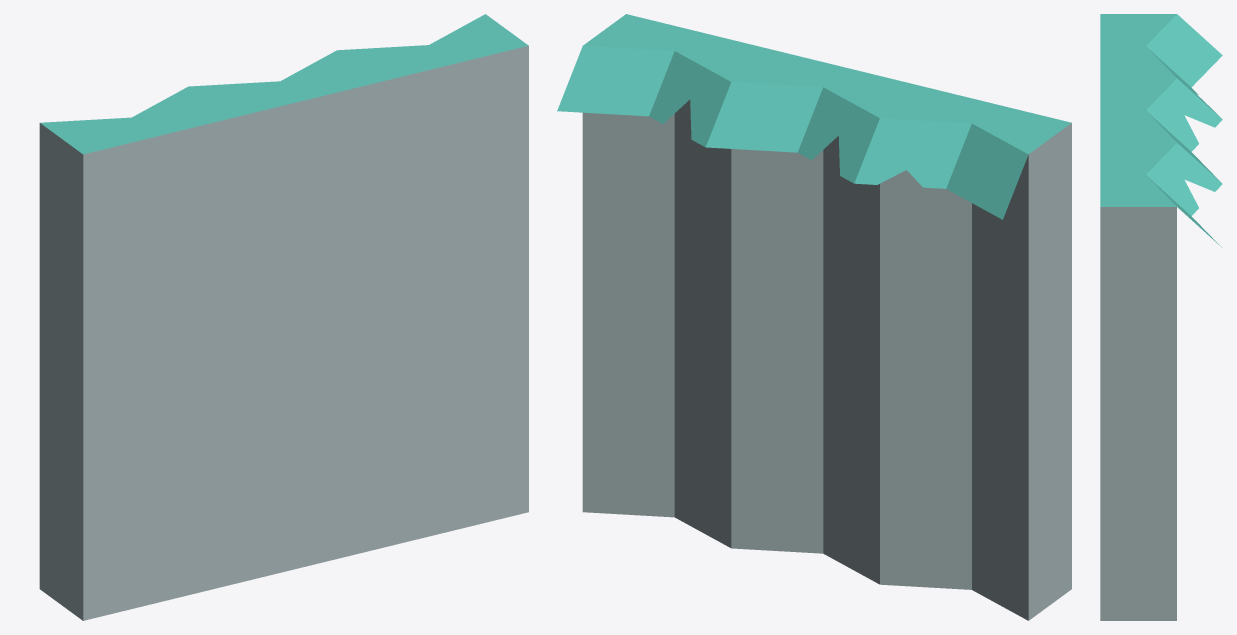
Rendered from cliff_top_stone.glb.
3 views of the same model, side by side, from view 1: azimuth 30°, elevation 25°; view 2: azimuth 150°, elevation 25°; view 3: azimuth 270°, elevation 25° (orthographic). The views are drawn at different scales.
Parts seen in each view (by area): view 1: cliff_top_stone; view 2: cliff_top_stone; view 3: cliff_top_stone.
Part boxes in pixels (<box>): cliff_top_stone: <box>39,14,528,620</box>; cliff_top_stone: <box>557,14,1071,620</box>; cliff_top_stone: <box>1100,14,1222,620</box>.
Bounding box in the file's own units: 1 × 1 × 0.2685.
